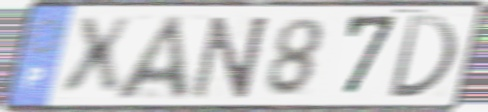7: (342, 13, 399, 101)
8: (262, 16, 328, 98)
A: (111, 13, 194, 102)
D: (383, 12, 460, 101)
N: (188, 13, 273, 102)
X: (58, 14, 136, 101)
